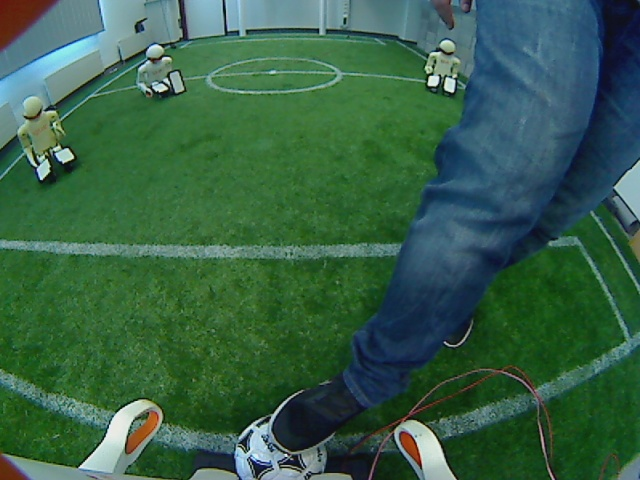ball: (232, 407, 331, 478)
robot: (15, 95, 82, 184), (133, 41, 188, 102), (422, 34, 463, 98)
